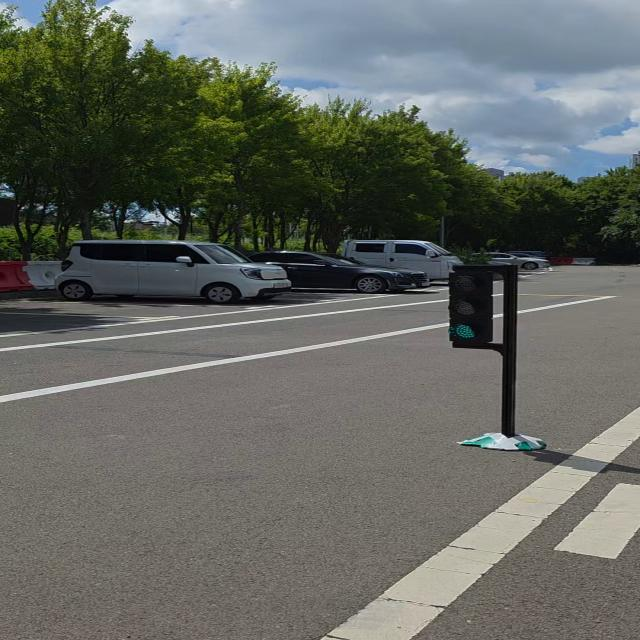green: (448, 266, 497, 346)
